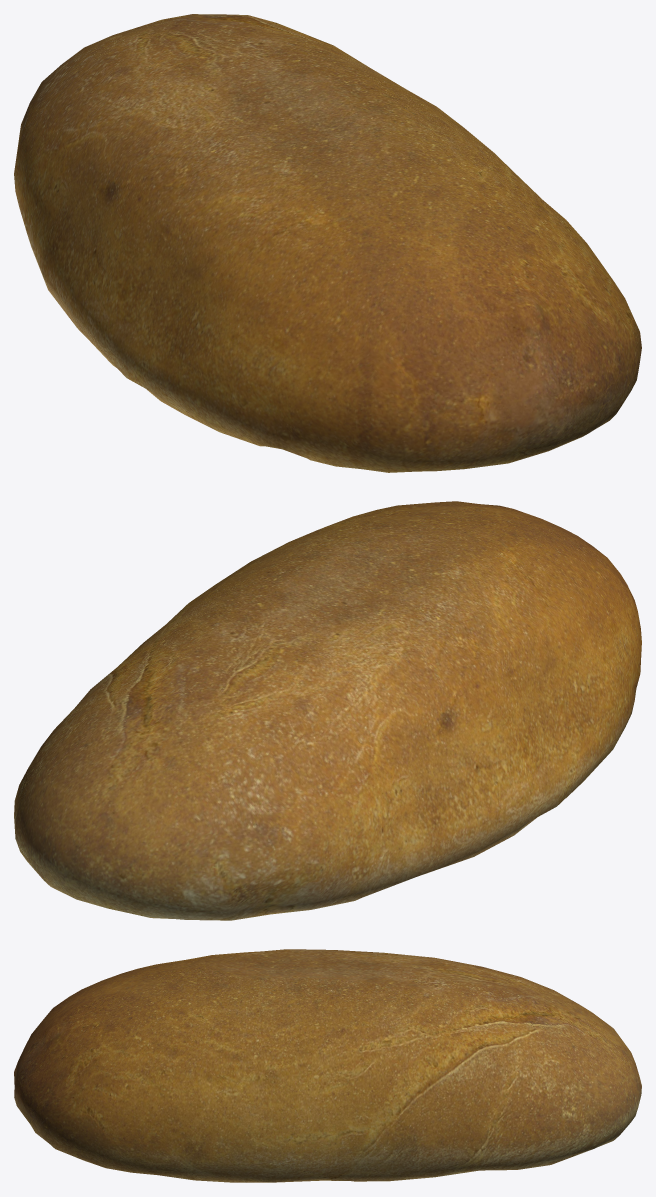
3 renders of one model, top to bottom at view 1: azimuth 30°, elevation 25°; view 2: azimuth 150°, elevation 25°; view 3: azimuth 270°, elevation 25°, orthographic. The views are drawn at different scales.
Parts seen in each view (by area): view 1: Object_2; view 2: Object_2; view 3: Object_2.
Boxes of the visible parts, x1,y1,x2,y2 form: Object_2: (14,14,641,472); Object_2: (14,501,641,920); Object_2: (14,949,641,1182).
Bounding box in the file's own units: 25.66 × 13.98 × 49.03.
Materials: 1 (1 with a texture image).
